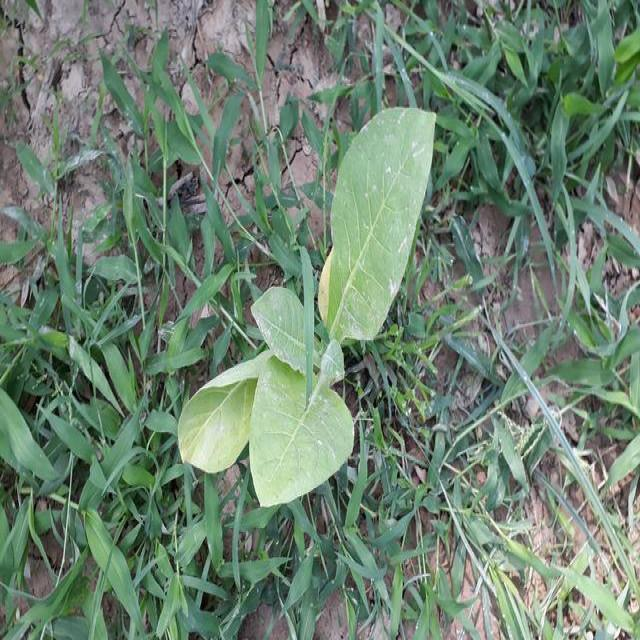crop: (171, 94, 443, 516)
